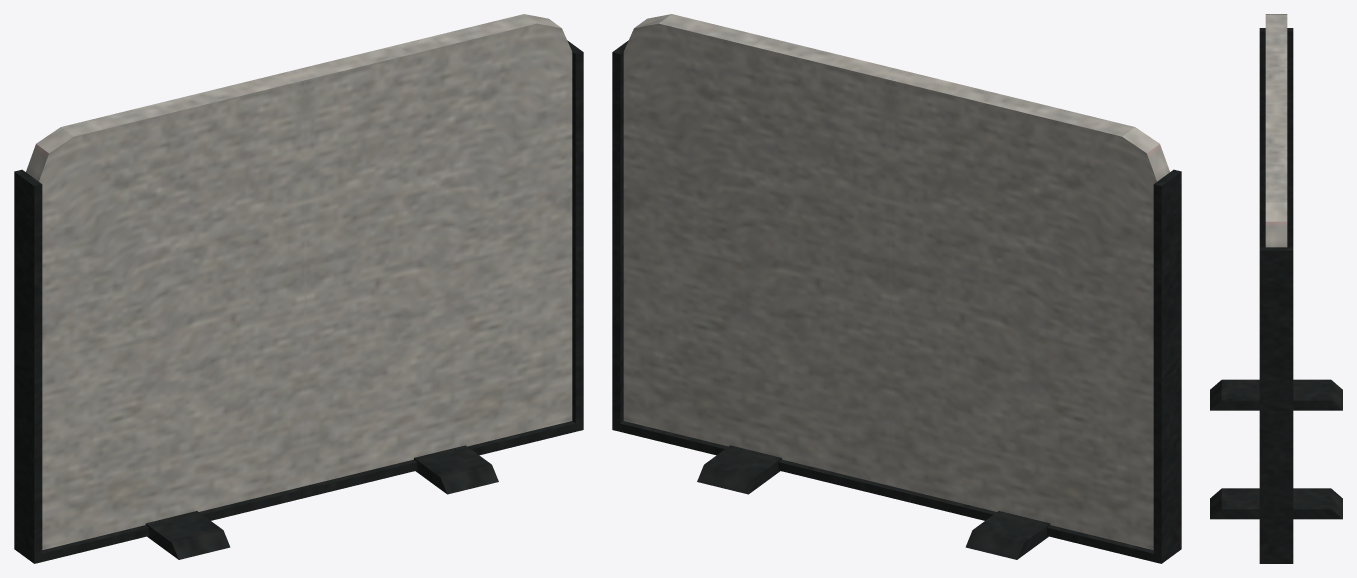
Rendered from divider_black_low_half.obj.
The picture shows the model from 3 angles, left to right: view 1: azimuth 30°, elevation 25°; view 2: azimuth 150°, elevation 25°; view 3: azimuth 270°, elevation 25°; orthographic projection. The views are drawn at different scales.
Visible parts, largest first — view 1: divider_black_low_half; view 2: divider_black_low_half; view 3: divider_black_low_half.
Part boxes in pixels (box(x1,y1,x2,y2)): divider_black_low_half: box(14, 14, 583, 563); divider_black_low_half: box(612, 14, 1181, 563); divider_black_low_half: box(1210, 14, 1342, 563).
Size of the model in its own units: 2.07 by 1.5 by 0.523.
